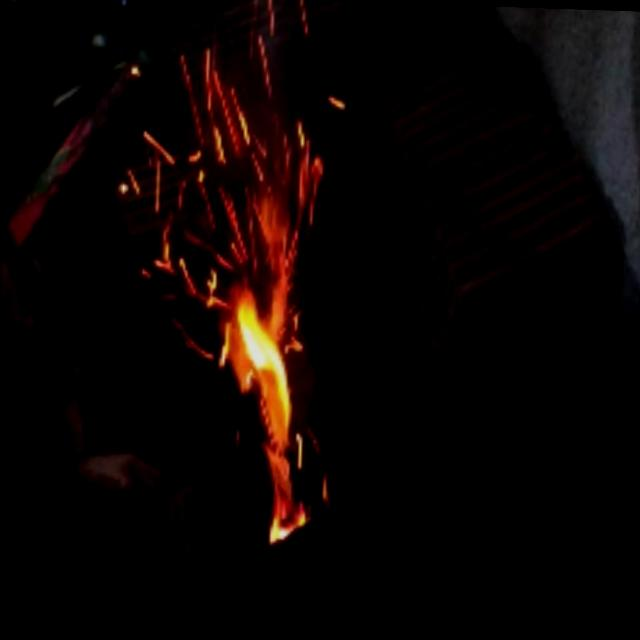fire: (135, 18, 374, 566)
